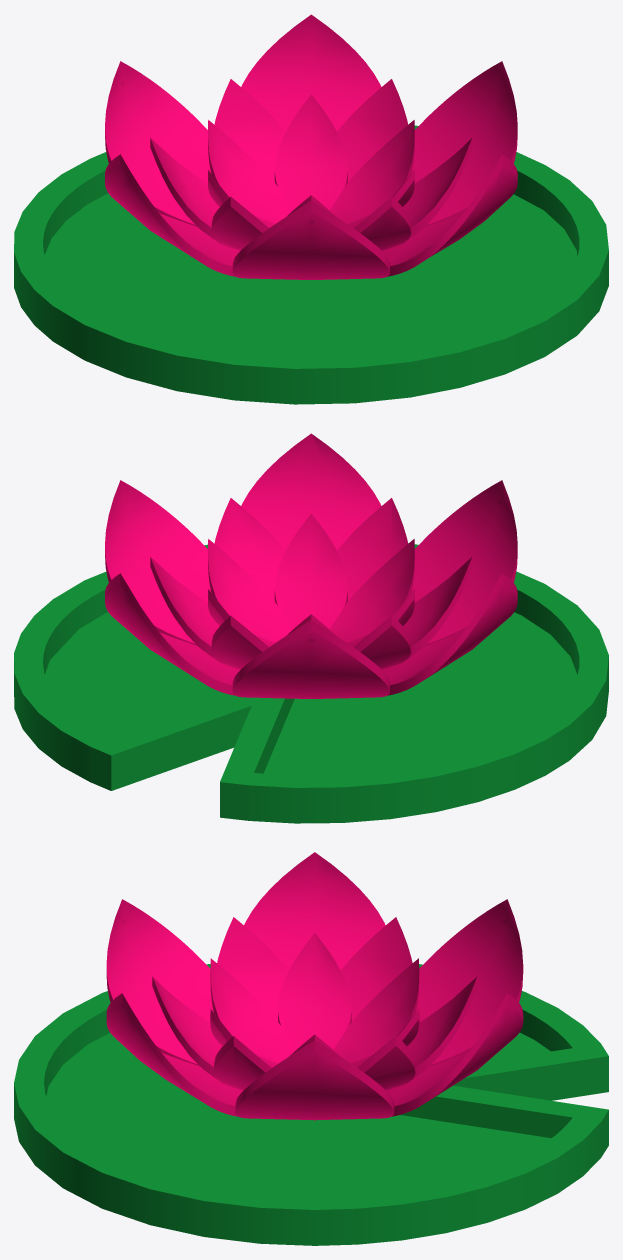
Rendered from plant1.fbx.
3 views of the same model, one above another, from view 1: azimuth 30°, elevation 25°; view 2: azimuth 150°, elevation 25°; view 3: azimuth 270°, elevation 25° (orthographic).
Parts seen in each view (by area): view 1: Leaves, Flower_2; view 2: Leaves, Flower_2; view 3: Leaves, Flower_2.
Boxes of the visible parts, x1,y1,x2,y2 form: Leaves: [14, 125, 608, 404]; Flower_2: [105, 14, 517, 279]; Leaves: [14, 543, 608, 823]; Flower_2: [105, 433, 517, 698]; Leaves: [14, 964, 608, 1245]; Flower_2: [106, 852, 523, 1120].
Size of the model in its own units: 1.9 by 0.7076 by 1.88.
